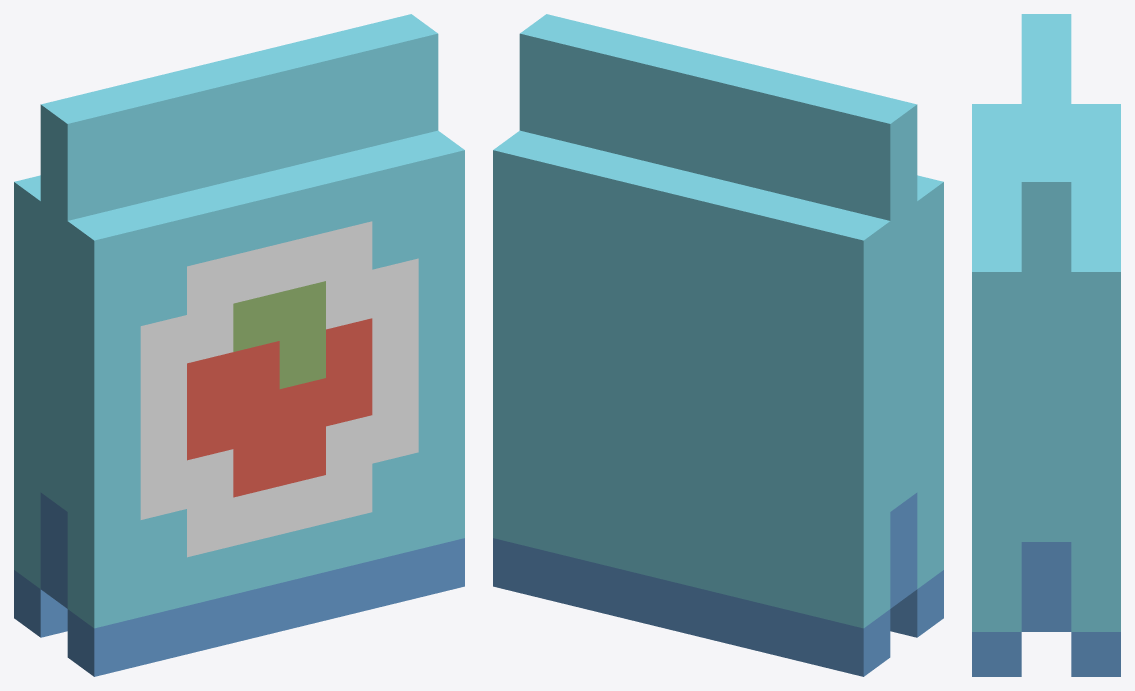
File: Semillas_Tomaco.fbx
The picture shows the model from 3 angles, left to right: view 1: azimuth 30°, elevation 25°; view 2: azimuth 150°, elevation 25°; view 3: azimuth 270°, elevation 25°; orthographic projection. The views are drawn at different scales.
Parts seen in each view (by area): view 1: semmilas_tomaco_8x11x3; view 2: semmilas_tomaco_8x11x3; view 3: semmilas_tomaco_8x11x3.
Boxes of the visible parts, x1,y1,x2,y2 form: semmilas_tomaco_8x11x3: (14,14,464,676); semmilas_tomaco_8x11x3: (493,14,943,676); semmilas_tomaco_8x11x3: (972,14,1120,676).
Size of the model in its own units: 800 by 1100 by 300.
